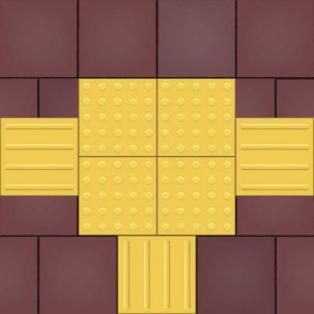Podoctatil: (1, 77, 313, 312)
